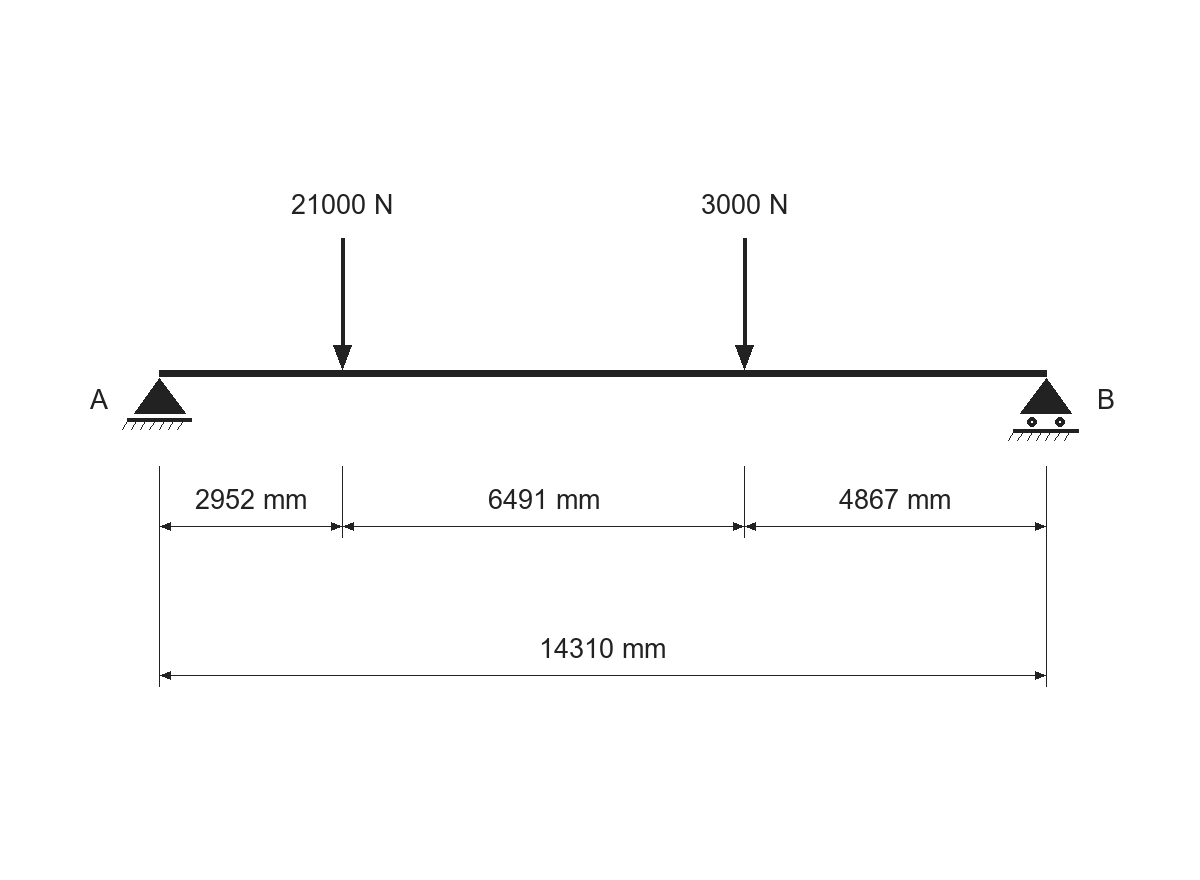pin_support: (122, 378, 192, 430)
point_load: (333, 238, 352, 370), (735, 238, 754, 370)
roller_support: (1008, 378, 1079, 441)
